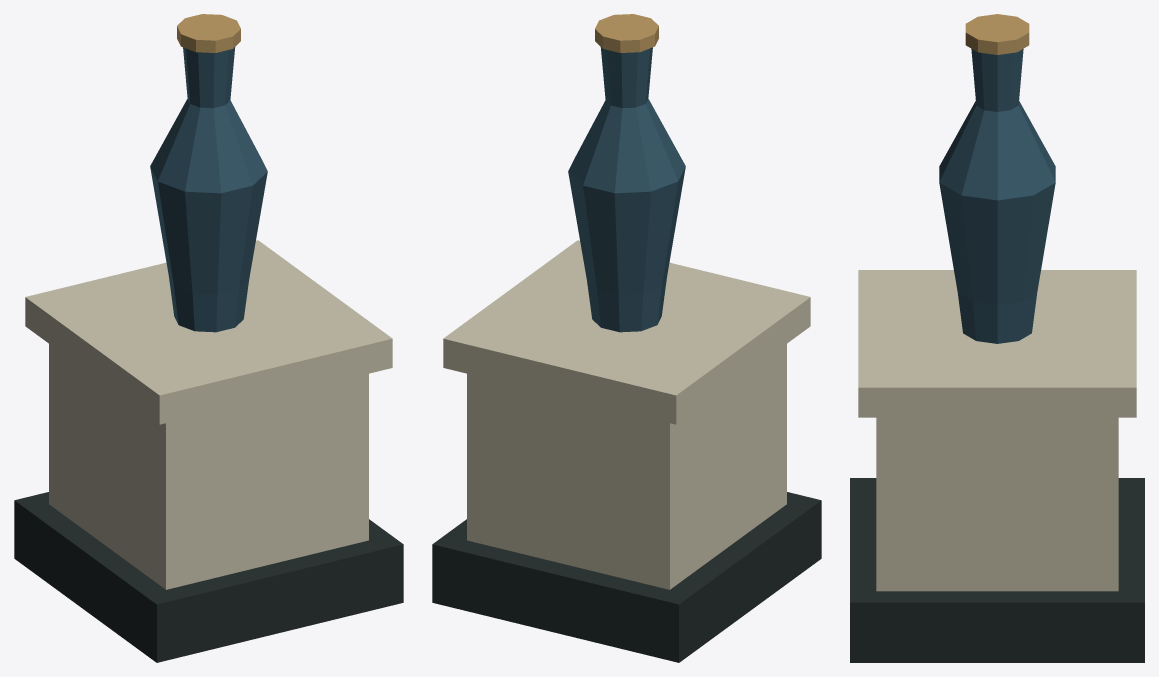
Rendered from LP_Temporary_PedestalNE.fbx.
The picture shows the model from 3 angles, left to right: view 1: azimuth 30°, elevation 25°; view 2: azimuth 150°, elevation 25°; view 3: azimuth 270°, elevation 25°; orthographic projection. The views are drawn at different scales.
Parts seen in each view (by area): view 1: M_Central_Limestone, Charcoal, M_Museum_DeepBlue, AgedBrass; view 2: M_Central_Limestone, Charcoal, M_Museum_DeepBlue, AgedBrass; view 3: M_Central_Limestone, Charcoal, M_Museum_DeepBlue, AgedBrass.
Boxes of the visible parts, x1,y1,x2,y2 form: M_Central_Limestone: (25,240,392,589); Charcoal: (14,492,403,662); M_Museum_DeepBlue: (150,47,267,332); AgedBrass: (177,14,240,52); M_Central_Limestone: (443,240,810,589); Charcoal: (432,492,821,662); M_Museum_DeepBlue: (568,47,685,332); AgedBrass: (595,14,658,52); M_Central_Limestone: (858,270,1136,591); Charcoal: (850,478,1144,662); M_Museum_DeepBlue: (939,49,1055,343); AgedBrass: (965,14,1029,54).
Size of the model in its own units: 70 by 150 by 70.
